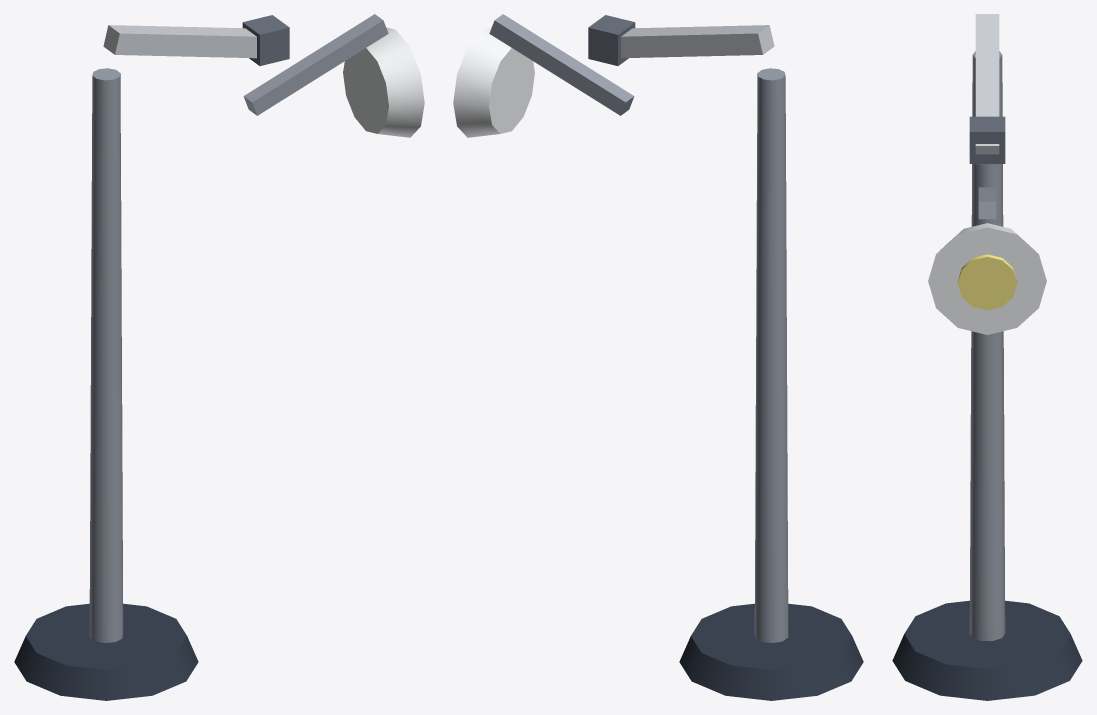
Rendered from parametric-source.glb.
3 renders of one model, left to right at view 1: azimuth 30°, elevation 25°; view 2: azimuth 150°, elevation 25°; view 3: azimuth 270°, elevation 25°, orthographic. The views are drawn at different scales.
Visible parts, largest first — view 1: openclinxr.equipment.abdominal_exam_light_equipment.column, openclinxr.equipment.abdominal_exam_light_equipment.base, openclinxr.equipment.abdominal_exam_light_equipment.lamp_hea, openclinxr.equipment.abdominal_exam_light_equipment.arm_prox, openclinxr.equipment.abdominal_exam_light_equipment.arm_dist, openclinxr.equipment.abdominal_exam_light_equipment.elbow_jo; view 2: openclinxr.equipment.abdominal_exam_light_equipment.column, openclinxr.equipment.abdominal_exam_light_equipment.base, openclinxr.equipment.abdominal_exam_light_equipment.lamp_hea, openclinxr.equipment.abdominal_exam_light_equipment.arm_prox, openclinxr.equipment.abdominal_exam_light_equipment.arm_dist, openclinxr.equipment.abdominal_exam_light_equipment.elbow_jo; view 3: openclinxr.equipment.abdominal_exam_light_equipment.base, openclinxr.equipment.abdominal_exam_light_equipment.column, openclinxr.equipment.abdominal_exam_light_equipment.lamp_hea, openclinxr.equipment.abdominal_exam_light_equipment.arm_prox, openclinxr.equipment.abdominal_exam_light_equipment.bulb, openclinxr.equipment.abdominal_exam_light_equipment.elbow_jo, openclinxr.equipment.abdominal_exam_light_equipment.arm_dist.
Part boxes in pixels (x1,y1,x2,y2): openclinxr.equipment.abdominal_exam_light_equipment.column: (89, 68, 123, 642); openclinxr.equipment.abdominal_exam_light_equipment.base: (14, 603, 198, 700); openclinxr.equipment.abdominal_exam_light_equipment.lamp_hea: (343, 27, 424, 137); openclinxr.equipment.abdominal_exam_light_equipment.arm_prox: (103, 25, 256, 58); openclinxr.equipment.abdominal_exam_light_equipment.arm_dist: (243, 14, 388, 115); openclinxr.equipment.abdominal_exam_light_equipment.elbow_jo: (242, 15, 289, 65); openclinxr.equipment.abdominal_exam_light_equipment.column: (754, 68, 788, 642); openclinxr.equipment.abdominal_exam_light_equipment.base: (679, 603, 863, 700); openclinxr.equipment.abdominal_exam_light_equipment.lamp_hea: (453, 27, 534, 137); openclinxr.equipment.abdominal_exam_light_equipment.arm_prox: (621, 25, 774, 58); openclinxr.equipment.abdominal_exam_light_equipment.arm_dist: (489, 14, 634, 115); openclinxr.equipment.abdominal_exam_light_equipment.elbow_jo: (588, 15, 635, 65); openclinxr.equipment.abdominal_exam_light_equipment.base: (892, 600, 1082, 700); openclinxr.equipment.abdominal_exam_light_equipment.column: (969, 51, 1005, 640); openclinxr.equipment.abdominal_exam_light_equipment.lamp_hea: (928, 223, 1046, 334); openclinxr.equipment.abdominal_exam_light_equipment.arm_prox: (975, 14, 999, 164); openclinxr.equipment.abdominal_exam_light_equipment.bulb: (957, 254, 1017, 310); openclinxr.equipment.abdominal_exam_light_equipment.elbow_jo: (969, 116, 1005, 163); openclinxr.equipment.abdominal_exam_light_equipment.arm_dist: (978, 187, 996, 219).
Size of the model in its own units: 0.75 by 1.21 by 0.32.
